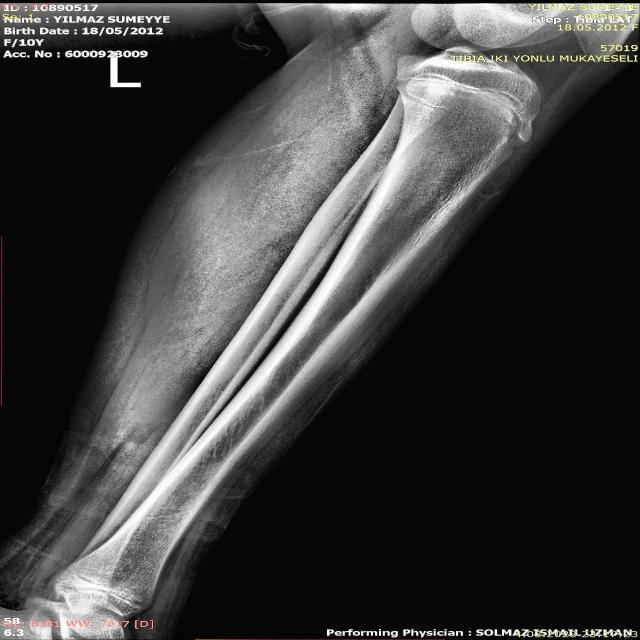Not_Fracture: (0, 4, 636, 636)
